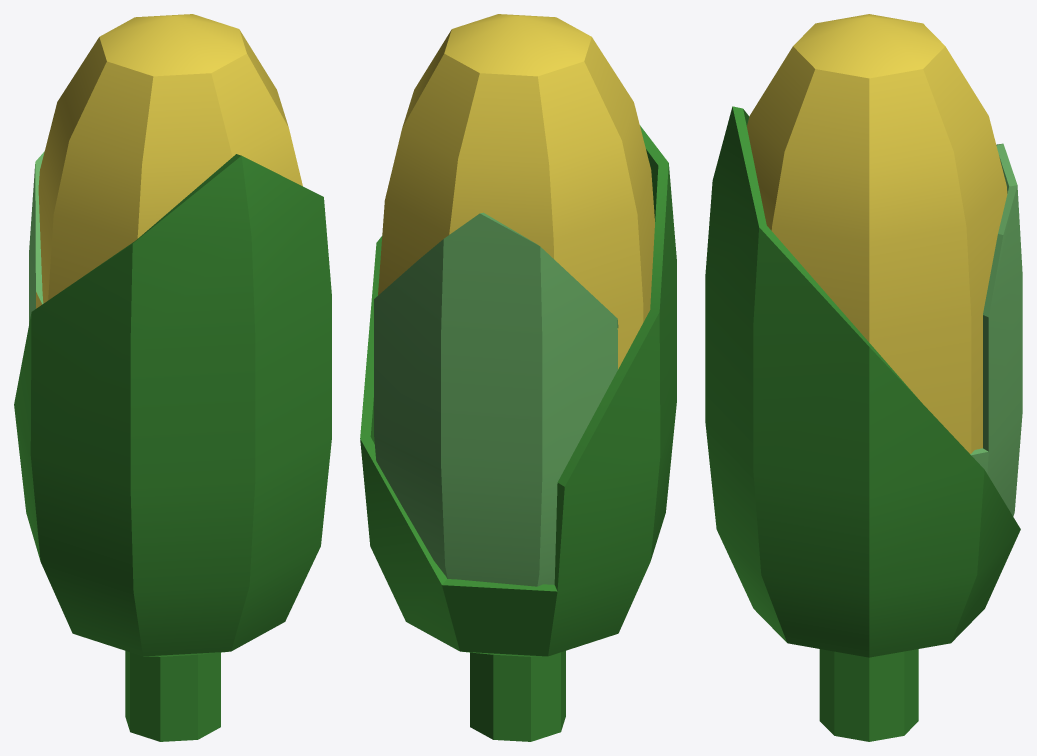
The model's file is toumorokosi.fbx.
The picture shows the model from 3 angles, left to right: view 1: azimuth 30°, elevation 25°; view 2: azimuth 150°, elevation 25°; view 3: azimuth 270°, elevation 25°; orthographic projection.
Parts seen in each view (by area): view 1: pCylinder2, pCylinder1, pCylinder4, pCylinder3; view 2: pCylinder3, pCylinder1, pCylinder2, pCylinder4; view 3: pCylinder2, pCylinder1, pCylinder3, pCylinder4.
Part boxes in pixels (left/top/right/bottom): pCylinder2: left=14, top=154, right=331, bottom=656; pCylinder1: left=36, top=14, right=302, bottom=308; pCylinder4: left=125, top=651, right=220, bottom=741; pCylinder3: left=29, top=151, right=44, bottom=324; pCylinder3: left=374, top=212, right=618, bottom=586; pCylinder1: left=378, top=14, right=654, bottom=369; pCylinder2: left=360, top=125, right=676, bottom=656; pCylinder4: left=470, top=651, right=565, bottom=741; pCylinder2: left=705, top=106, right=1020, bottom=657; pCylinder1: left=747, top=14, right=1007, bottom=453; pCylinder3: left=970, top=143, right=1022, bottom=516; pCylinder4: left=819, top=649, right=918, bottom=741.
Size of the model in its own units: 2.27 by 5.37 by 2.2.
